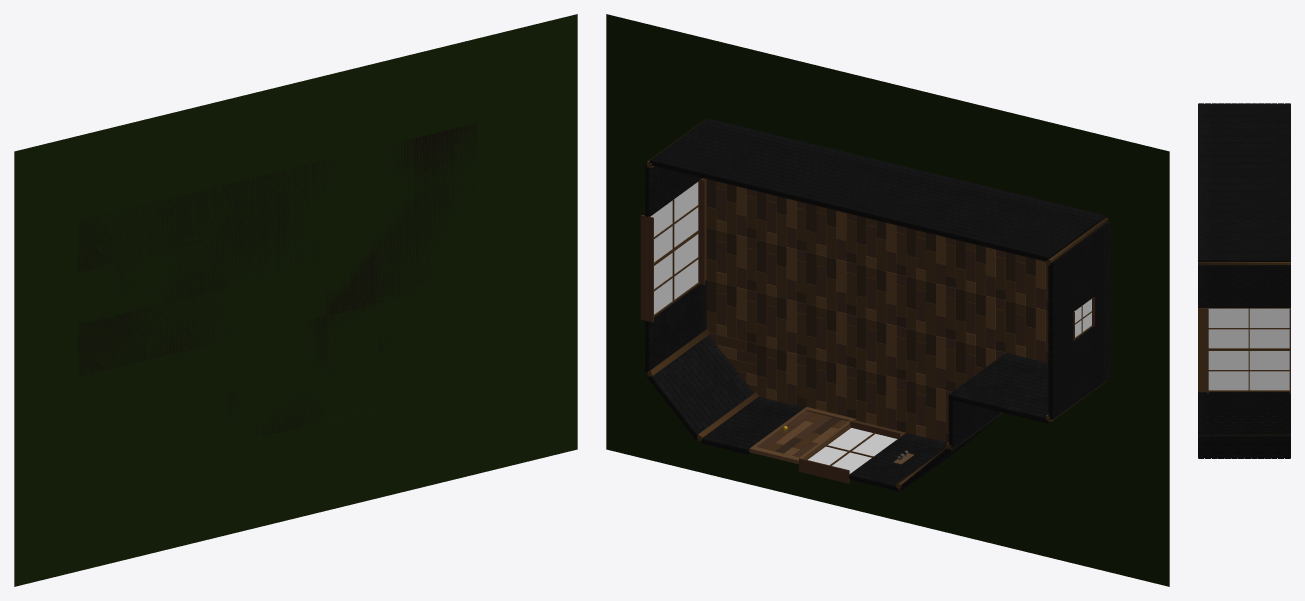
The picture shows the model from 3 angles, left to right: view 1: azimuth 30°, elevation 25°; view 2: azimuth 150°, elevation 25°; view 3: azimuth 270°, elevation 25°; orthographic projection. The views are drawn at different scales.
Visible parts, largest first — view 1: Plane001; view 2: Plane001; view 3: Plane001.
Part boxes in pixels (x1=…): Plane001: x1=14, y1=14, x2=577, y2=586; Plane001: x1=606, y1=14, x2=1169, y2=586; Plane001: x1=1198, y1=103, x2=1290, y2=458.
Size of the model in its own units: 1130 by 834 by 200.
